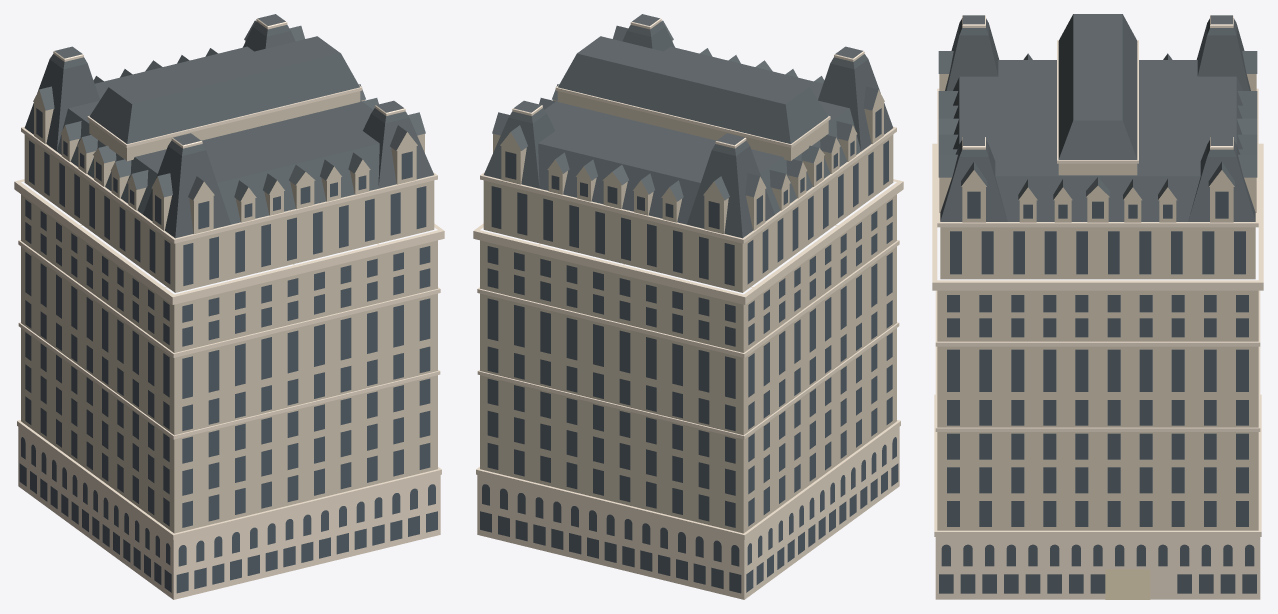
The model's file is phl-bellevue-stratford.glb.
3 renders of one model, left to right at view 1: azimuth 30°, elevation 25°; view 2: azimuth 150°, elevation 25°; view 3: azimuth 270°, elevation 25°, orthographic. The views are drawn at different scales.
Visible parts, largest first — view 1: The Bellevue; view 2: The Bellevue; view 3: The Bellevue.
Boxes of the visible parts, x1,y1,x2,y2 form: The Bellevue: [14, 14, 444, 599]; The Bellevue: [473, 14, 903, 599]; The Bellevue: [932, 14, 1263, 599].
Bounding box in the file's own units: 58.4 × 90.5 × 58.8.
